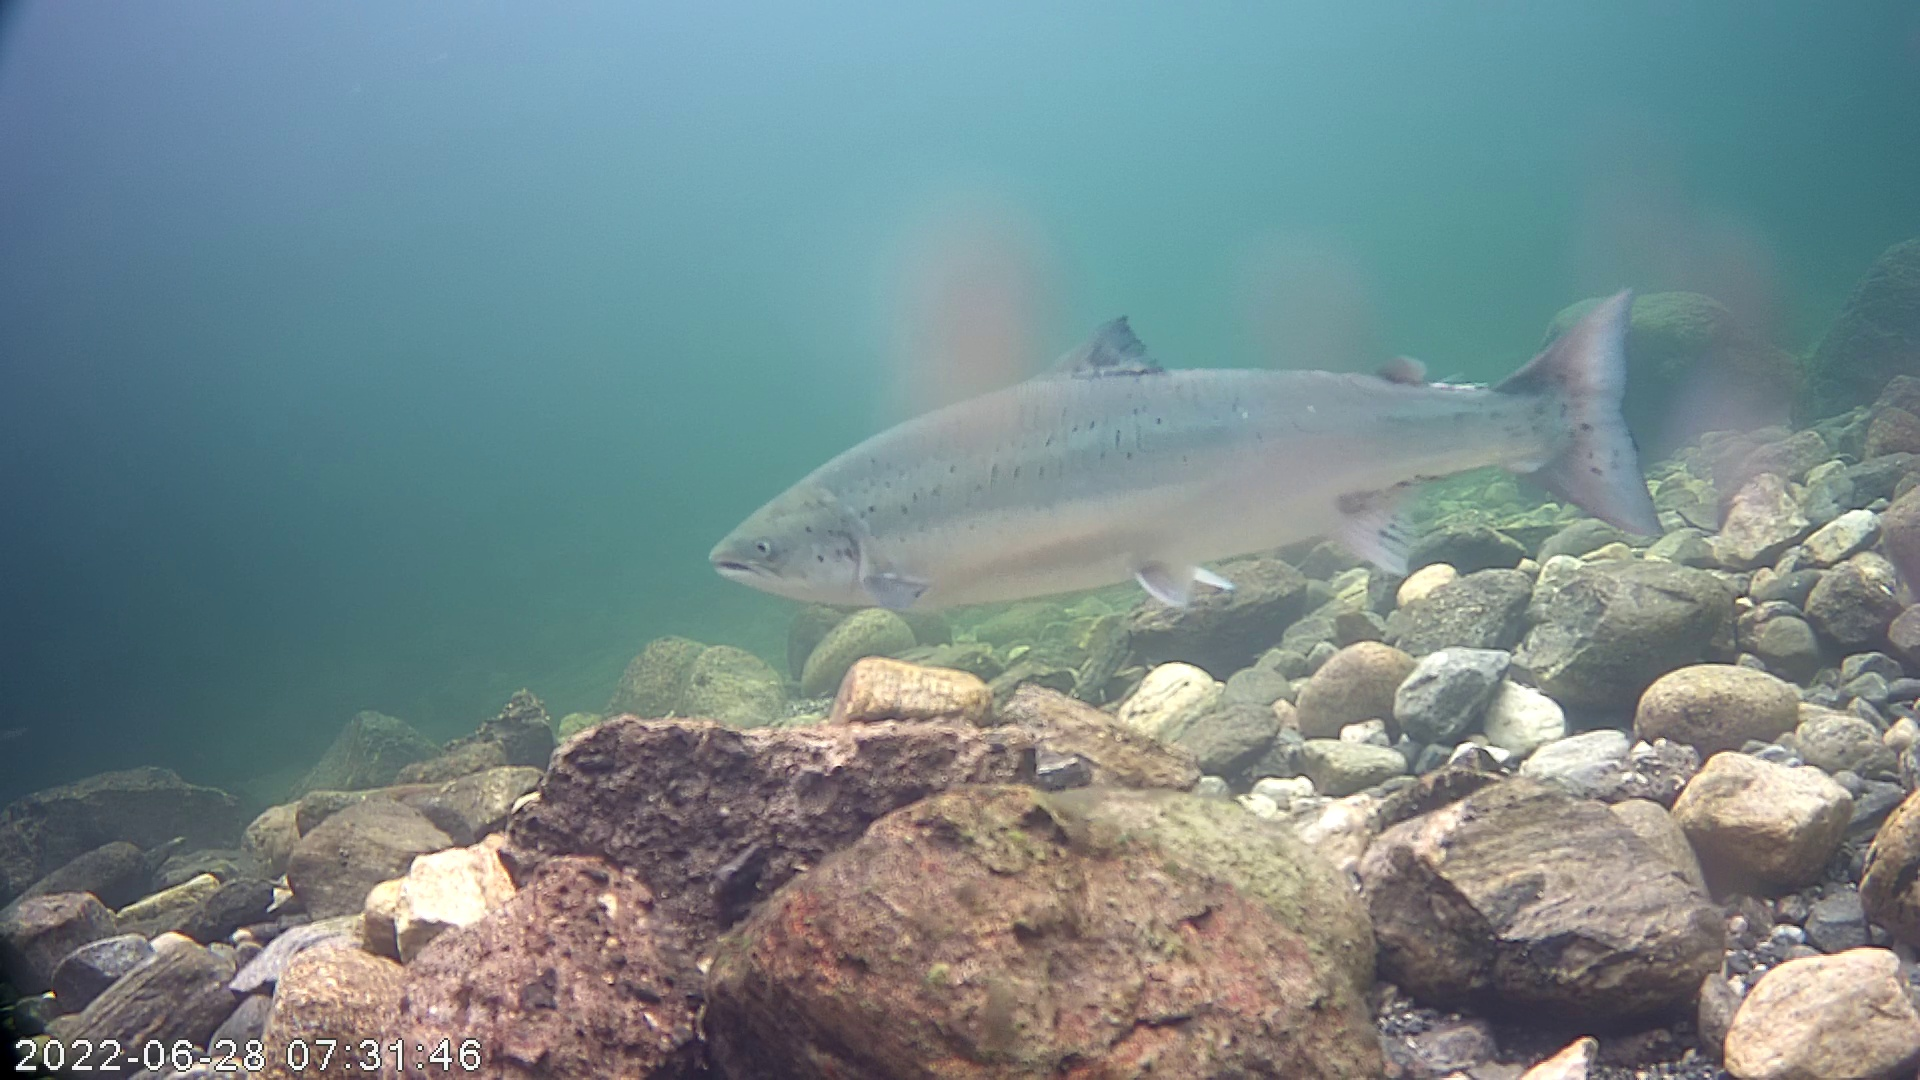salmon: (703, 223, 1673, 669)
